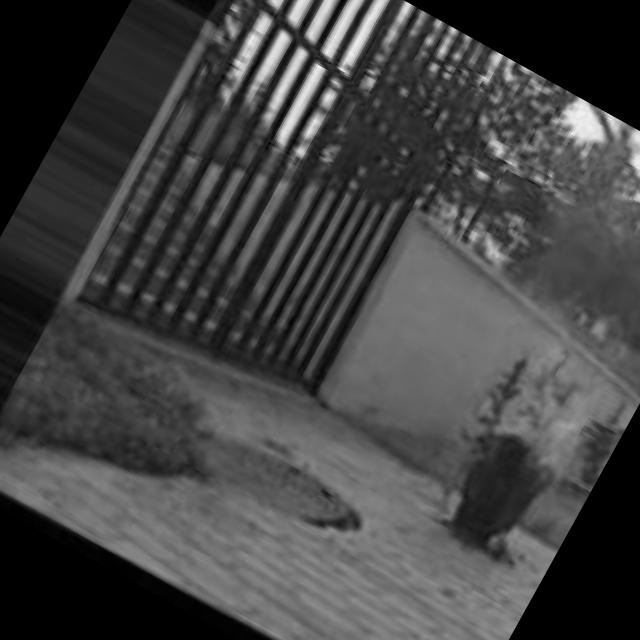fire: (500, 386, 608, 504)
